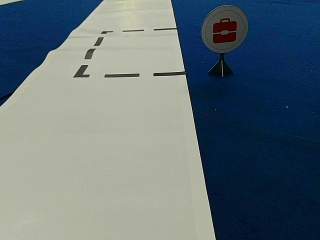company: (202, 4, 248, 51)
